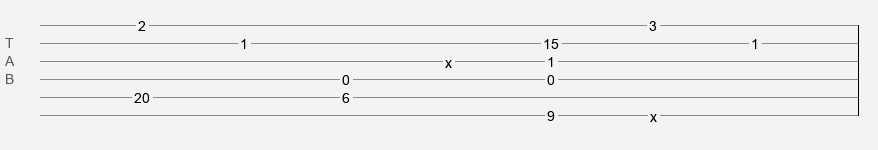0: (342, 72, 350, 82), (547, 72, 555, 82)
1: (240, 36, 248, 46), (547, 54, 555, 64), (751, 36, 759, 46)
15: (543, 36, 559, 46)
2: (138, 18, 146, 28)
20: (134, 90, 150, 100)
3: (649, 18, 657, 28)
6: (342, 90, 350, 100)
9: (547, 108, 555, 118)
x: (445, 55, 452, 63), (650, 109, 657, 117)
